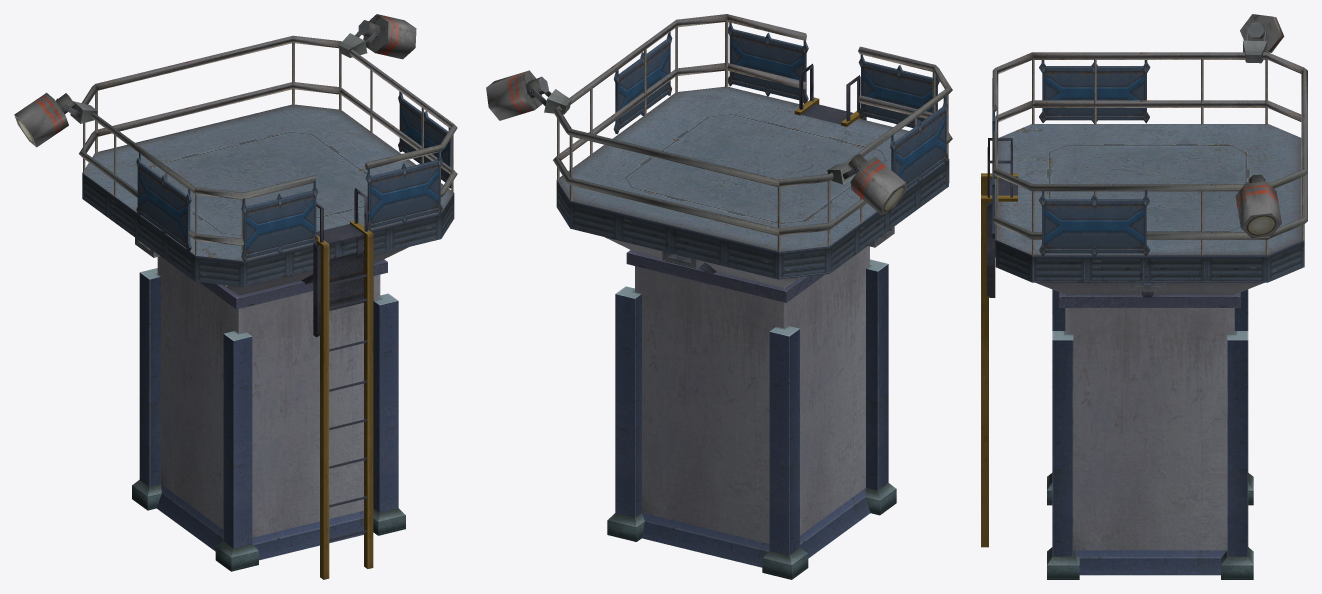
The model's file is Prop_Lwt01.glb.
3 views of the same model, side by side, from view 1: azimuth 30°, elevation 25°; view 2: azimuth 150°, elevation 25°; view 3: azimuth 270°, elevation 25° (orthographic). The views are drawn at different scales.
Visible parts, largest first — view 1: xiutz_lwt01_0; view 2: xiutz_lwt01_0; view 3: xiutz_lwt01_0.
Part boxes in pixels (x1,y1,x2,y2): xiutz_lwt01_0: (14, 14, 457, 579); xiutz_lwt01_0: (486, 14, 952, 579); xiutz_lwt01_0: (981, 14, 1307, 579).
Bounding box in the file's own units: 7.94 × 8.11 × 5.49.
Materials: 2 (2 with a texture image).
